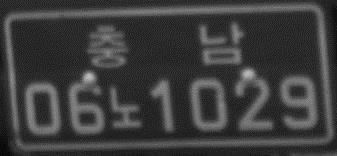0: (187, 75, 230, 134), (23, 79, 62, 137)
1: (149, 75, 176, 134)
2: (227, 67, 275, 134)
6: (68, 81, 106, 136)
9: (279, 72, 319, 132)
노: (103, 82, 143, 133)
충남_D: (84, 20, 244, 69)
